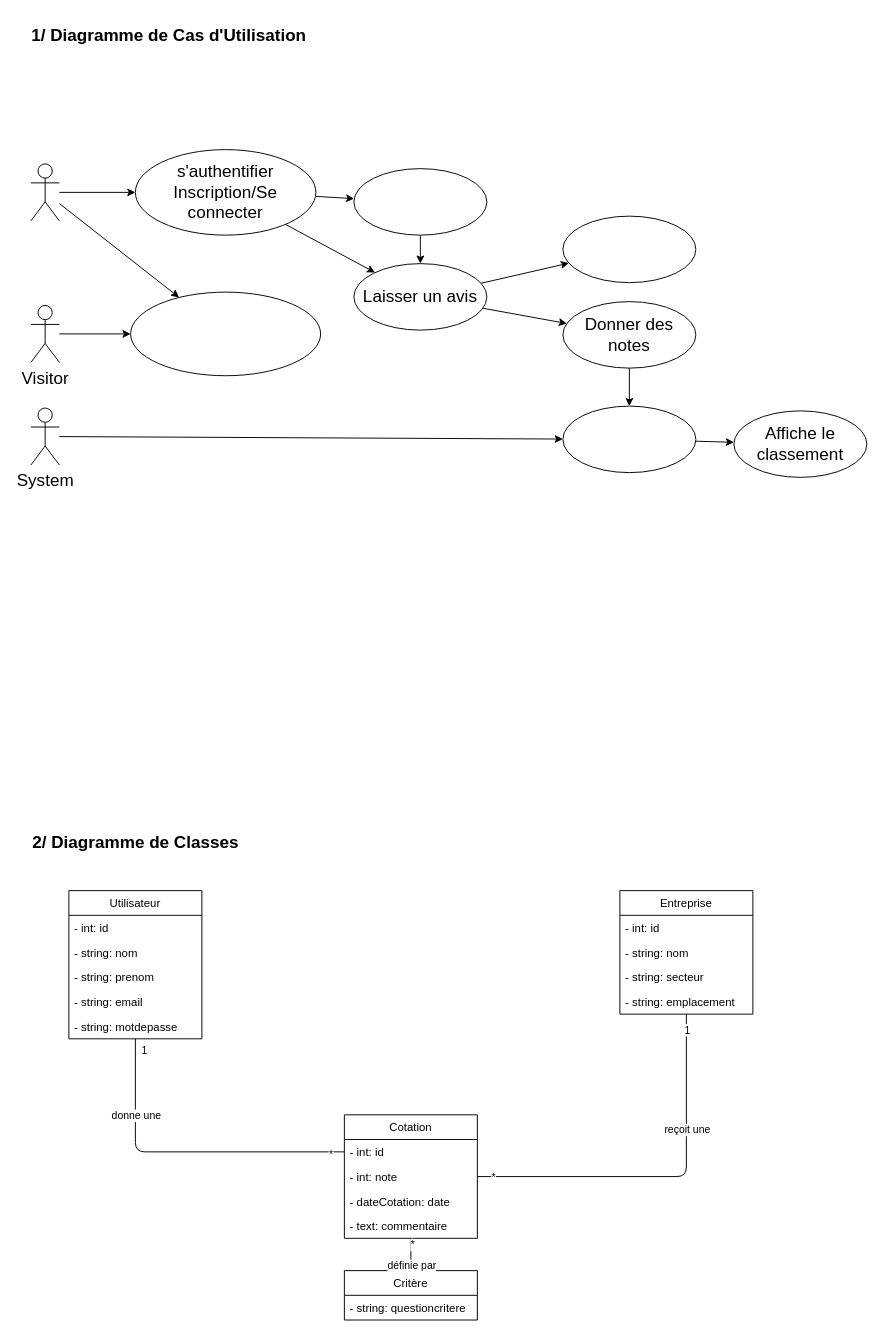
Some shapes in this 884 by 1339 pixel diagram are drawn without their labels. Each missing label, with the centre of its shape:
"Calcule les moyennes" belongs at point 629,439.
"Créer fiche entreprise" belongs at point 420,201.
"Ecrire un commentaire" belongs at point 629,249.
"Rechercher et Consulter entreprise" belongs at point 225,333.
"User" belongs at point 44,192.
